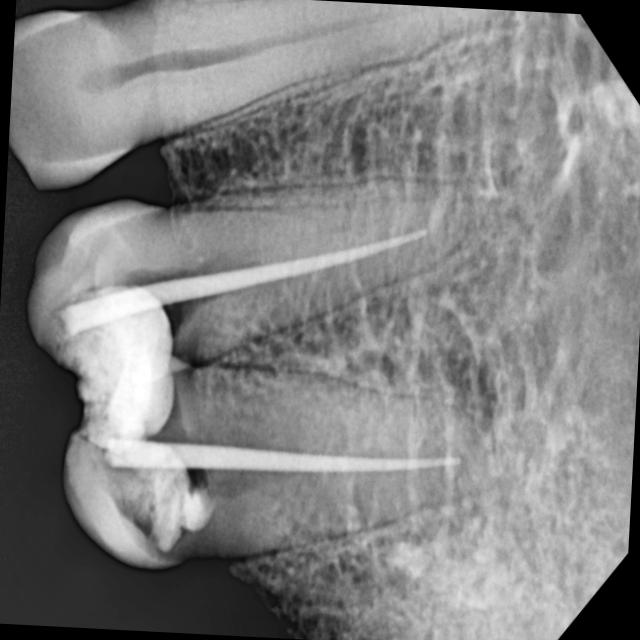RCT: (17, 79, 533, 596)
